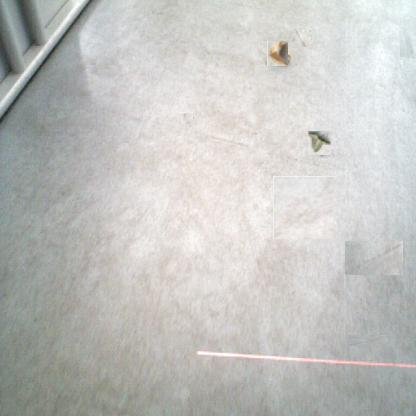dirty: (308, 131, 332, 155), (266, 42, 290, 65), (293, 28, 311, 46)
mark: (273, 176, 334, 239), (345, 241, 403, 275), (355, 327, 381, 353), (400, 36, 416, 60), (181, 113, 194, 127)
